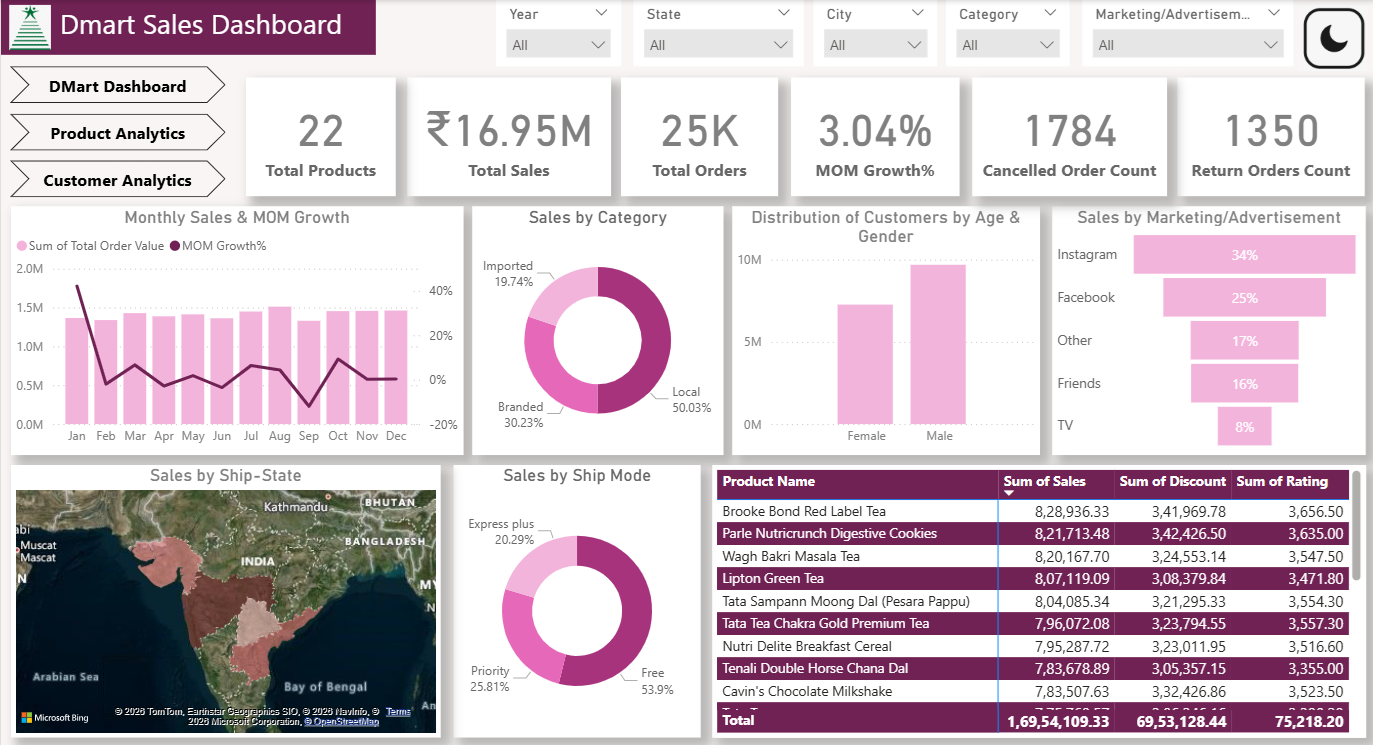

The page's visual inventory and layout, read from the dashboard file:
{"tool":"powerbi","page":{"name":"DMart Dashboard","canvas":[1345,729],"ordinal":0},"visuals":[{"type":"textbox","box":[0,0,366.6,53.8],"z":0},{"type":"image","box":[0,0,57.4,53.8],"z":1000},{"type":"card","fields":{"Values":["Dmart.Total_Sales"]},"box":[397.3,75.3,199.2,116.1],"z":2000},{"type":"card","fields":{"Values":["Dmart.No. of Orders"]},"box":[606.3,75.3,154,116.1],"z":3000},{"type":"card","title":"Cancelled / Retuen Order Count","fields":{"Values":["Dmart.Total Products"]},"box":[239.7,75.3,146.6,116.1],"z":4000},{"type":"card","title":"Cancelled / Retuen Order Count","fields":{"Values":["Dmart.Return Orders"]},"box":[1150,75.3,183.3,116.1],"z":5000},{"type":"card","title":"Cancelled / Retuen Order Count","fields":{"Values":["Dmart.MOM Growth%"]},"box":[772.4,75.3,164.9,116.1],"z":6000},{"type":"lineClusteredColumnComboChart","title":"Monthly Sales & MOM Growth ","fields":{"Y":["Sum(Dmart.Total Order Value)"],"Y2":["Dmart.MOM Growth%"],"Category":["Date Table.Month Name Hierarchy.Month Name","Date Table.Month Name Hierarchy.Year"]},"box":[9.8,201.6,442.3,243.1],"z":7000},{"type":"donutChart","title":"Sales by Category","fields":{"Category":["Dmart.Category"],"Y":["Sum(Dmart.Total Order Value)"]},"box":[460.6,201.6,245.6,243.1],"z":8000},{"type":"clusteredColumnChart","title":"Distribution of Customers by Age & Gender","fields":{"Category":["Dmart.Age_Bin Hierarchy.Age_Bin","Dmart.Age_Bin Hierarchy.Gender"],"Y":["Sum(Dmart.Total Order Value)"]},"box":[714.8,201.6,300.6,243.1],"z":9000},{"type":"donutChart","title":"Sales by Ship Mode","fields":{"Y":["Sum(Dmart.Total Order Value)"],"Category":["Dmart.Ship Mode"]},"box":[442.3,454.5,241.9,266.4],"z":10000},{"type":"filledMap","title":"Sales by Ship-State","fields":{"Category":["Dmart.State"]},"box":[9.8,454.5,420.3,266.4],"z":11000},{"type":"funnel","title":"Sales by Marketing/Advertisement","fields":{"Category":["Dmart.Marketing/Advertisement"],"Y":["Sum(Dmart.Total Order Value)"]},"box":[1027.6,201.6,306.7,243.1],"z":12000},{"type":"card","title":"Cancelled / Retuen Order Count","fields":{"Values":["Dmart.Cancelled Order Count"]},"box":[949.6,75.3,190.6,116.1],"z":13000},{"type":"pivotTable","fields":{"Rows":["Dmart.Product Name"],"Values":["Sum(Dmart.Total Order Value)","Sum(Dmart.Discount)","Sum(Dmart.Rating)"]},"box":[695.2,454.5,639,266.4],"z":14000},{"type":"slicer","fields":{"Values":["Dmart.Year"]},"box":[499,0,122.2,53.8],"z":15000},{"type":"slicer","fields":{"Values":["Dmart.State"]},"box":[629.7,0,169.8,53.8],"z":16000},{"type":"slicer","fields":{"Values":["Dmart.Category"]},"box":[927.9,0,128.3,53.8],"z":17000},{"type":"slicer","fields":{"Values":["Dmart.Marketing/Advertisement"]},"box":[1056.4,0,206.5,53.8],"z":18000},{"type":"slicer","fields":{"Values":["Dmart.City"]},"box":[806.9,0,116.1,53.8],"z":19000},{"type":"image","box":[1267.7,0,77,78.2],"z":20000},{"type":"pageNavigator","box":[8.7,64.8,211.9,129.7],"z":21000}]}

Visuals, with their boxes in screenshot pixels (x1, y1, x2, y2), scaled from the page's 1345x729 canvas onto the 1373x745 screenshot:
textbox: bbox=(0, 0, 374, 55)
image: bbox=(0, 0, 59, 55)
card - Dmart.Total_Sales: bbox=(406, 77, 609, 196)
card - Dmart.No. of Orders: bbox=(619, 77, 776, 196)
"Cancelled / Retuen Order Count" card: bbox=(245, 77, 394, 196)
"Cancelled / Retuen Order Count" card: bbox=(1174, 77, 1361, 196)
"Cancelled / Retuen Order Count" card: bbox=(788, 77, 957, 196)
"Monthly Sales & MOM Growth " lineClusteredColumnComboChart: bbox=(10, 206, 462, 454)
"Sales by Category" donutChart: bbox=(470, 206, 721, 454)
"Distribution of Customers by Age & Gender" clusteredColumnChart: bbox=(730, 206, 1037, 454)
"Sales by Ship Mode" donutChart: bbox=(452, 464, 698, 737)
"Sales by Ship-State" filledMap: bbox=(10, 464, 439, 737)
"Sales by Marketing/Advertisement" funnel: bbox=(1049, 206, 1362, 454)
"Cancelled / Retuen Order Count" card: bbox=(969, 77, 1164, 196)
pivotTable - Dmart.Product Name x Sum(Dmart.Total Order Value): bbox=(710, 464, 1362, 737)
slicer - Dmart.Year: bbox=(509, 0, 634, 55)
slicer - Dmart.State: bbox=(643, 0, 816, 55)
slicer - Dmart.Category: bbox=(947, 0, 1078, 55)
slicer - Dmart.Marketing/Advertisement: bbox=(1078, 0, 1289, 55)
slicer - Dmart.City: bbox=(824, 0, 942, 55)
image: bbox=(1294, 0, 1372, 80)
pageNavigator: bbox=(9, 66, 225, 199)
